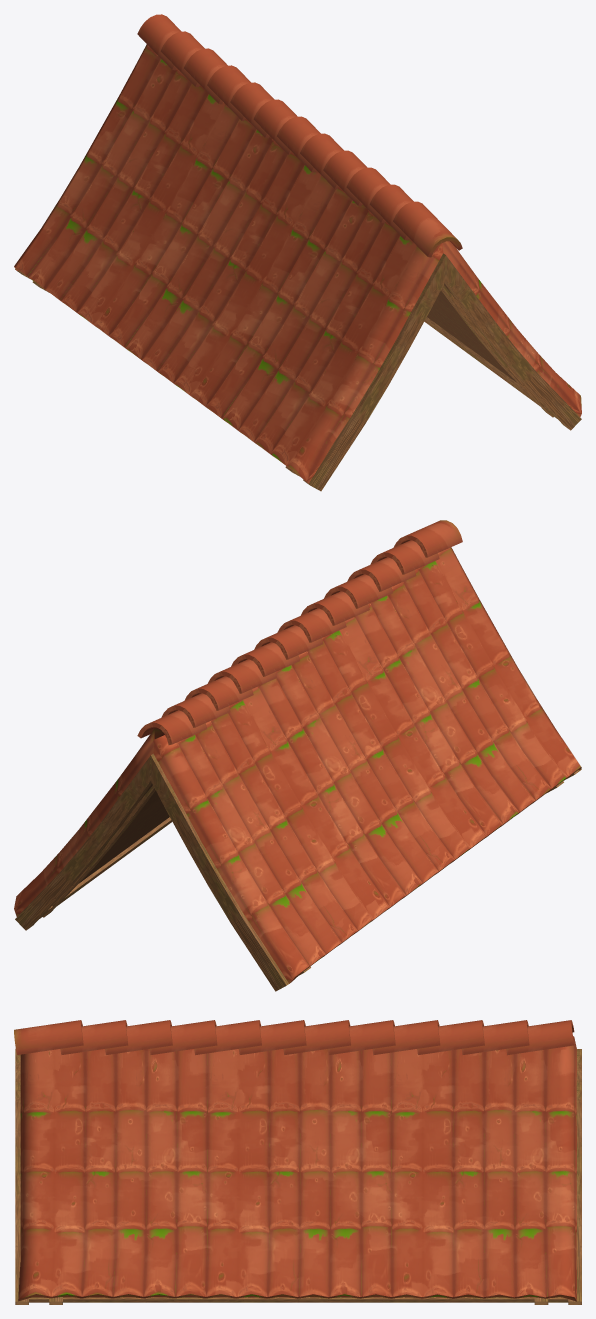
The model's file is roof_round_tiles_4x8.glb.
3 renders of one model, top to bottom at view 1: azimuth 30°, elevation 25°; view 2: azimuth 150°, elevation 25°; view 3: azimuth 270°, elevation 25°, orthographic. The views are drawn at different scales.
Parts seen in each view (by area): view 1: Roof_RoundTiles_4x8; view 2: Roof_RoundTiles_4x8; view 3: Roof_RoundTiles_4x8.
Boxes of the visible parts, x1,y1,x2,y2 form: Roof_RoundTiles_4x8: (14, 14, 581, 491); Roof_RoundTiles_4x8: (14, 520, 581, 991); Roof_RoundTiles_4x8: (14, 1020, 581, 1304).
Size of the model in its own units: 5.51 by 4.23 by 9.68.
Materials: 2 (2 with a texture image).
